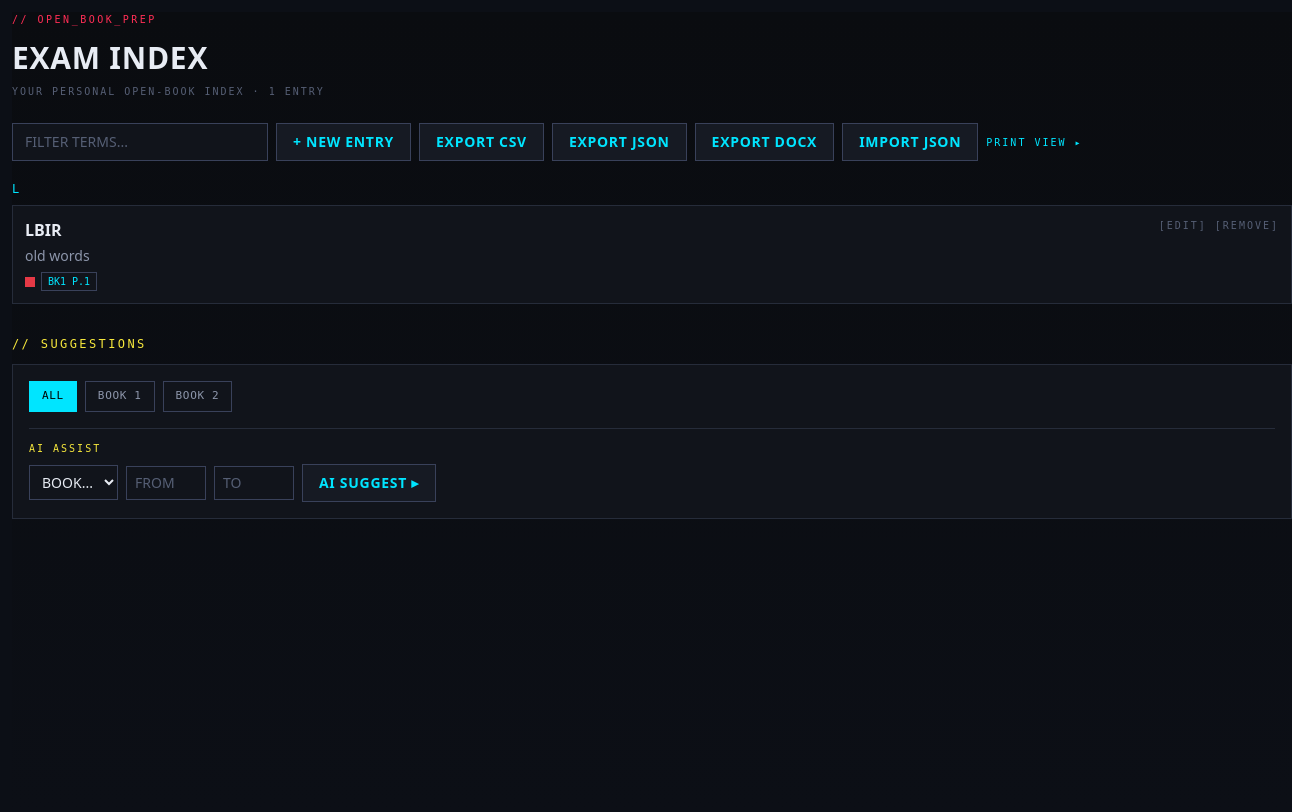
Test case: cancel discards draft edits and reopening shows original values
The width and height of the screenshot is (1292, 812).
Click the button "[EDIT]" at (1183, 226), box [1159,218,1207,233]
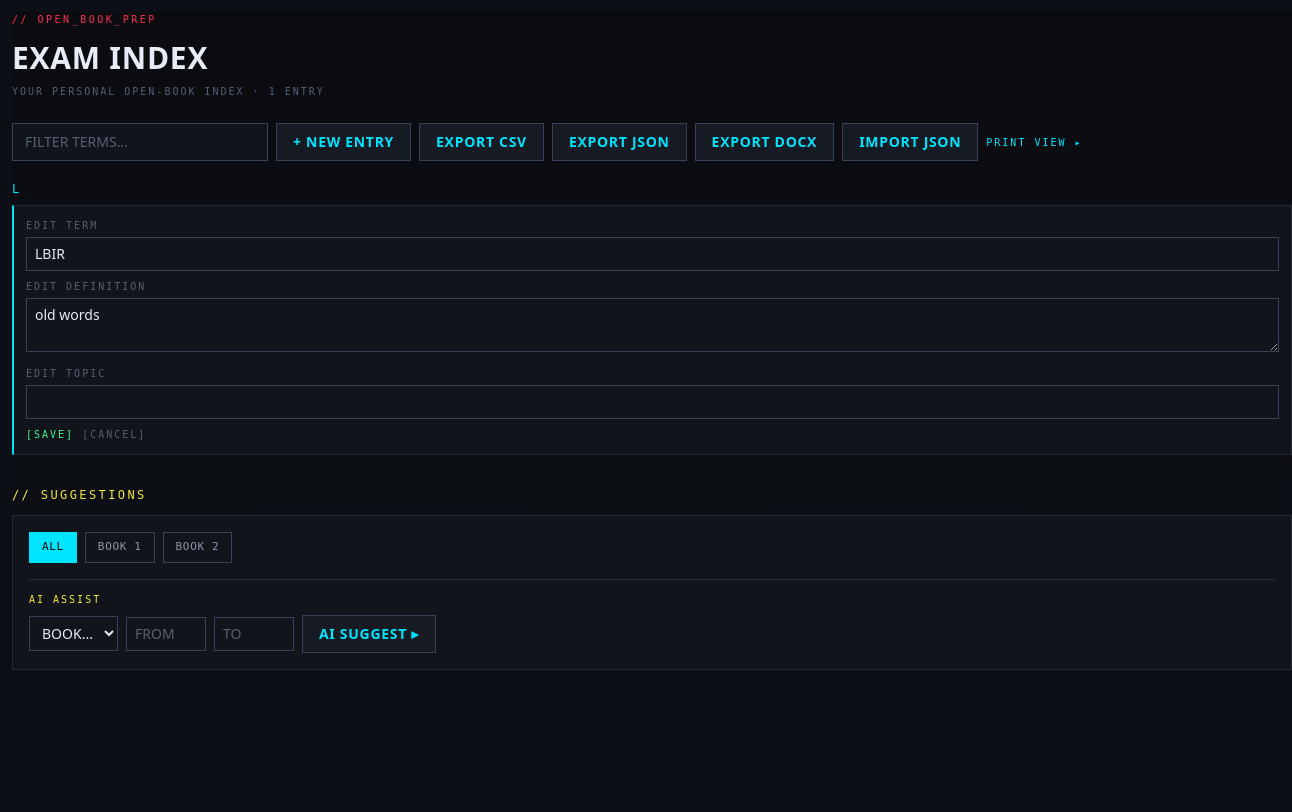
Replace the text in the text box labelled "EDIT DEFINITION" with "junk text" at (652, 325), box [26,298,1279,352]
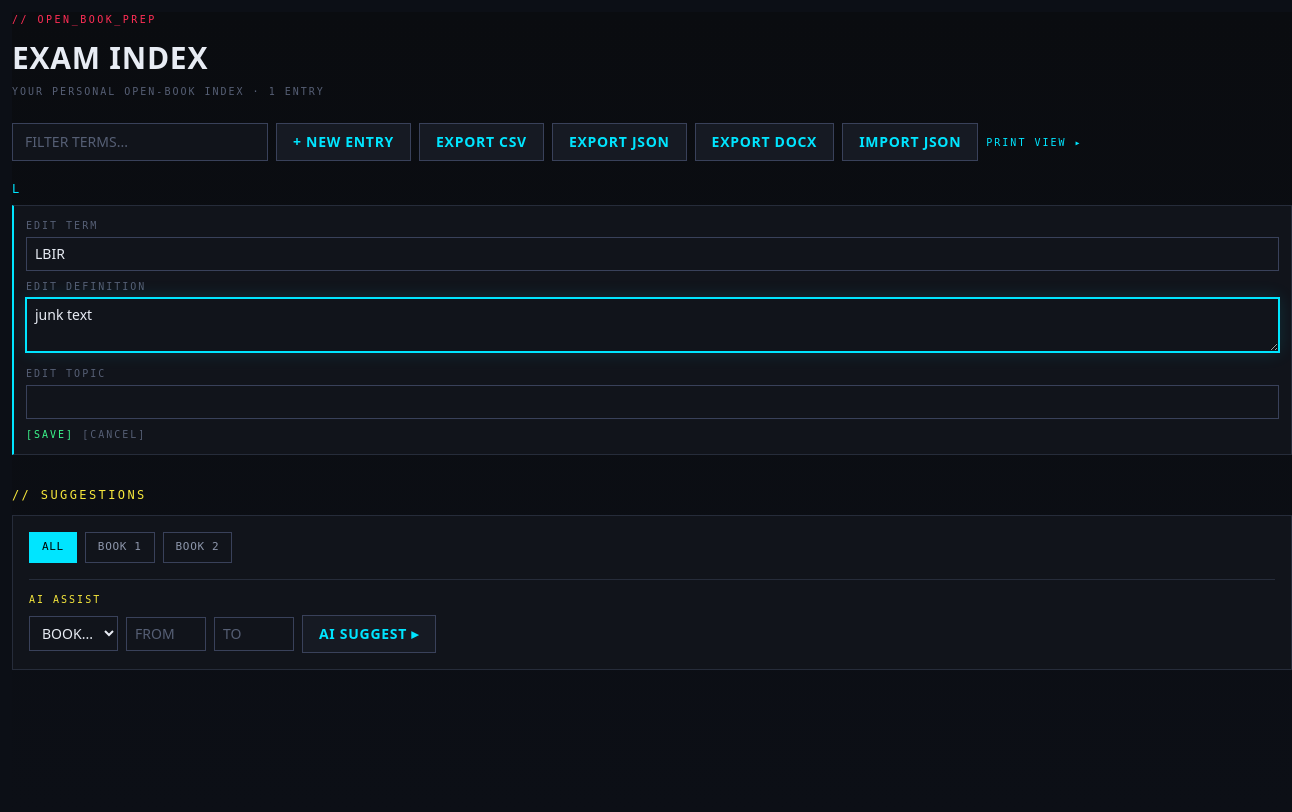
Click the button "[CANCEL]" at (114, 434), box [82,427,146,442]
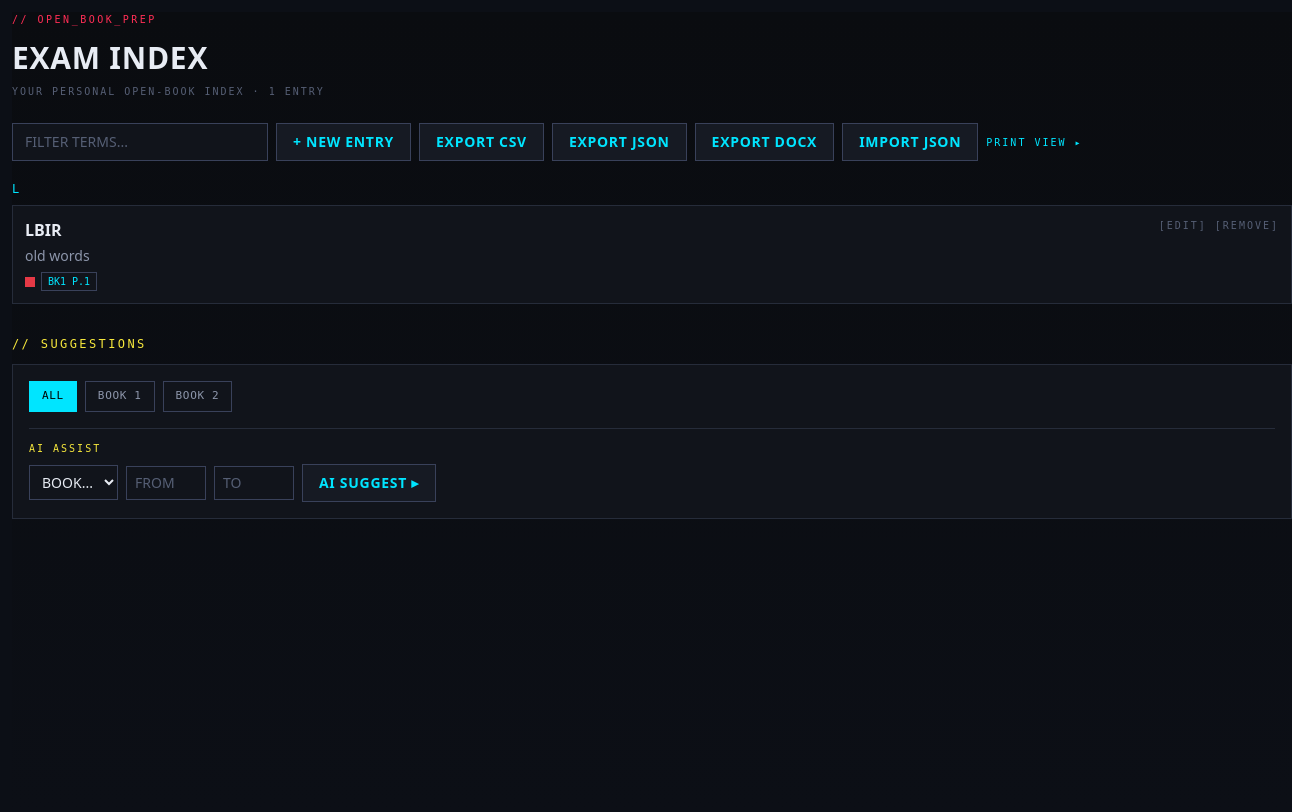
Expected: the text "old words" is shown, [25,246,99,266]
Click the button "[EDIT]" at (1183, 226), box [1159,218,1207,233]
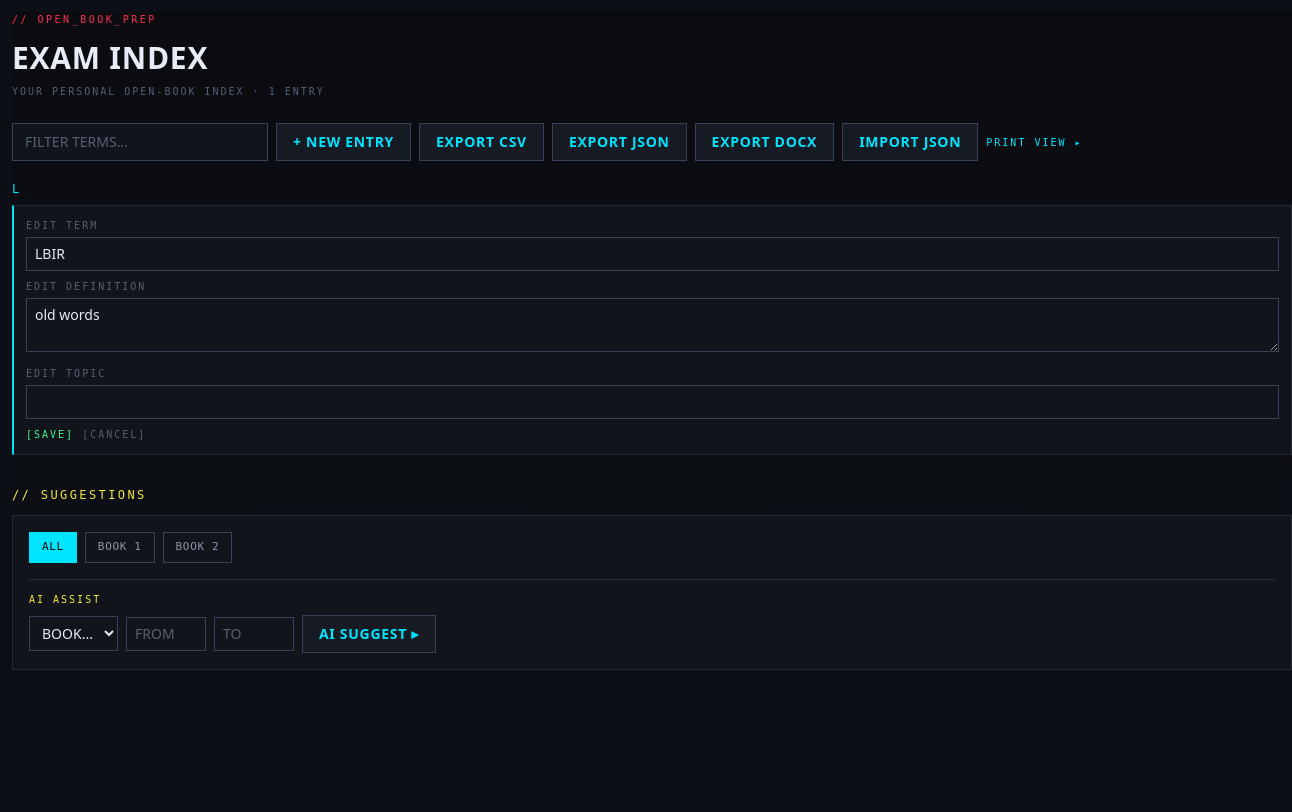
Expected: the text box labelled "EDIT DEFINITION" holds "old words", [26,298,1279,352]
